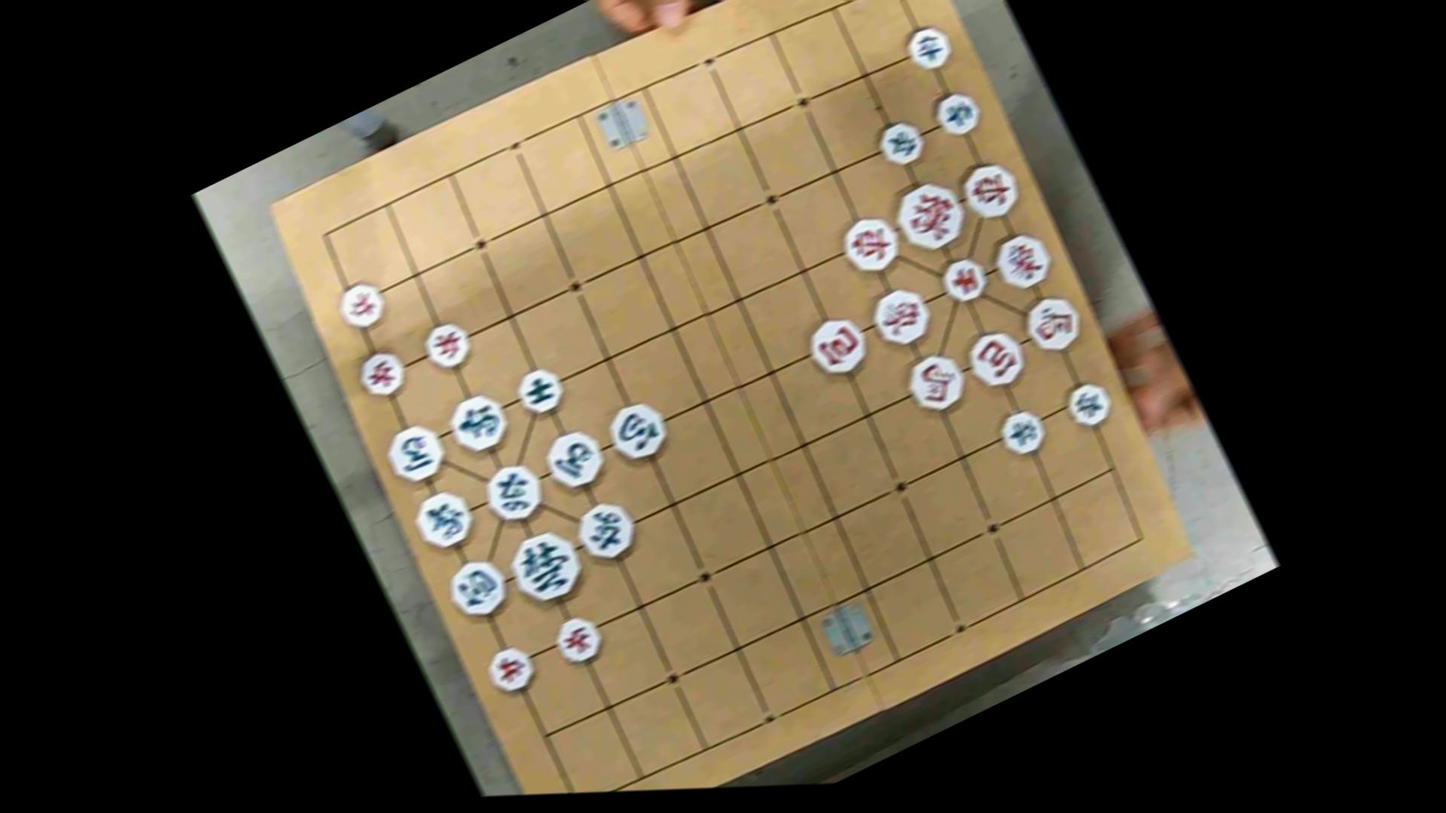cha_green: (569, 493, 641, 568), (475, 457, 547, 531)
cha_red: (954, 155, 1027, 228), (835, 210, 905, 285)
jol_green: (994, 406, 1049, 463), (871, 114, 926, 171), (1060, 376, 1115, 432), (901, 20, 955, 76), (929, 85, 983, 140)
jol_red: (482, 640, 540, 699), (420, 317, 477, 376), (353, 343, 410, 402), (333, 279, 390, 337), (548, 611, 605, 669)
ma_green: (538, 425, 610, 498), (380, 418, 451, 491)
ma_red: (897, 344, 973, 418), (1017, 289, 1086, 361)
po_green: (600, 397, 672, 471), (444, 554, 515, 628)
po_red: (798, 309, 871, 385), (960, 326, 1028, 396)
sa_green: (511, 363, 569, 420)
sa_red: (936, 250, 992, 307)
sang_green: (441, 386, 516, 460), (408, 483, 480, 558)
sang_red: (865, 283, 938, 355), (985, 226, 1057, 298)
wang_green: (502, 521, 590, 611)
wang_red: (889, 171, 973, 260)
